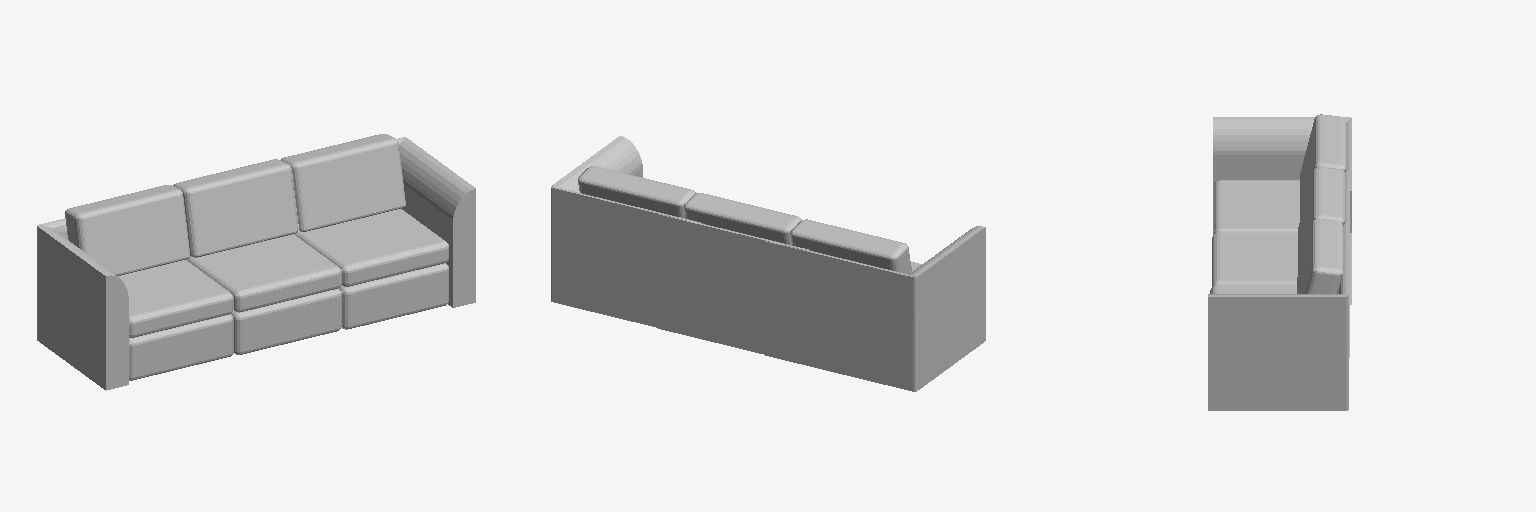
The model's file is sofa1.obj.
The picture shows the model from 3 angles: view 1: azimuth 30°, elevation 25°; view 2: azimuth 150°, elevation 25°; view 3: azimuth 270°, elevation 25°; orthographic projection.
Parts seen in each view (by area): view 1: Sofa1b5_3_6, Sofa1b4_2_5, Sofa1b3_1_1, Sofa1b4_2_2, Sofa1b5_3_3, Sofa1b3_1_4; view 2: Sofa1b5_3_6, Sofa1b3_1_1, Sofa1b4_2_5, Sofa1b4_2_2, Sofa1b5_3_3, Sofa1b3_1_4; view 3: Sofa1b4_2_5, Sofa1b5_3_6, Sofa1b3_1_1, Sofa1b4_2_2, Sofa1b5_3_3, Sofa1b3_1_4.
Part boxes in pixels (x1,y1,x2,y2): Sofa1b5_3_6: (37, 185, 233, 390); Sofa1b4_2_5: (281, 134, 475, 329); Sofa1b3_1_1: (173, 159, 341, 354); Sofa1b4_2_2: (283, 134, 475, 329); Sofa1b5_3_3: (37, 185, 233, 389); Sofa1b3_1_4: (174, 159, 341, 354); Sofa1b5_3_6: (765, 219, 985, 391); Sofa1b3_1_1: (658, 193, 807, 354); Sofa1b4_2_5: (551, 136, 703, 326); Sofa1b4_2_2: (551, 137, 700, 327); Sofa1b5_3_3: (765, 219, 985, 391); Sofa1b3_1_4: (658, 194, 808, 352); Sofa1b4_2_5: (1208, 219, 1348, 410); Sofa1b5_3_6: (1213, 114, 1351, 304); Sofa1b3_1_1: (1212, 167, 1349, 356); Sofa1b4_2_2: (1208, 219, 1348, 410); Sofa1b5_3_3: (1213, 114, 1351, 300); Sofa1b3_1_4: (1212, 167, 1349, 357).
Bounding box in the file's own units: 234 × 79.23 × 79.37.